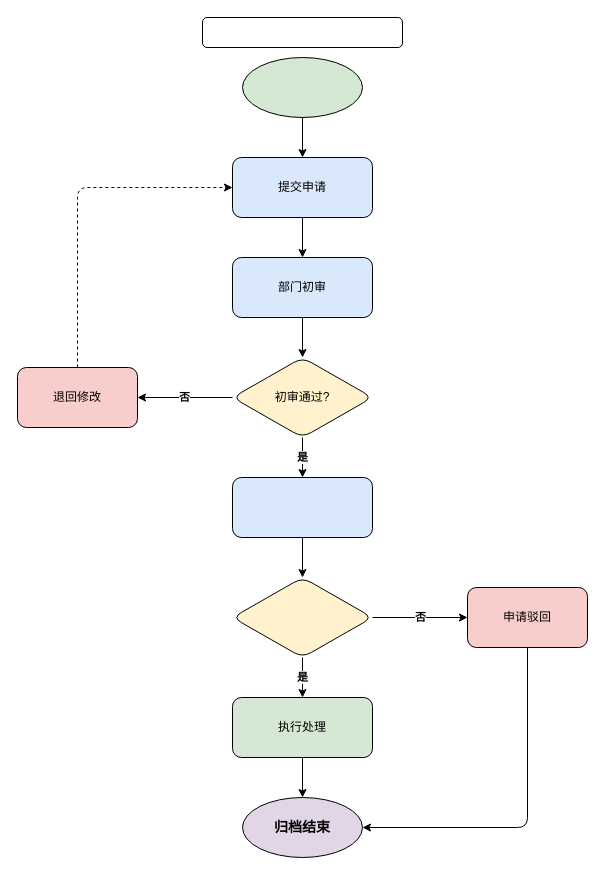
Image size: 605x875. Some labels were removed from this diagram. The shapes that lost their labels are listed below. From the top down, each one's centre as x and y in pixels, then its label:
At point (302, 32): "业务审批流程图".
At point (302, 87): "开始".
At point (302, 507): "领导审批".
At point (302, 617): "审批通过?".
